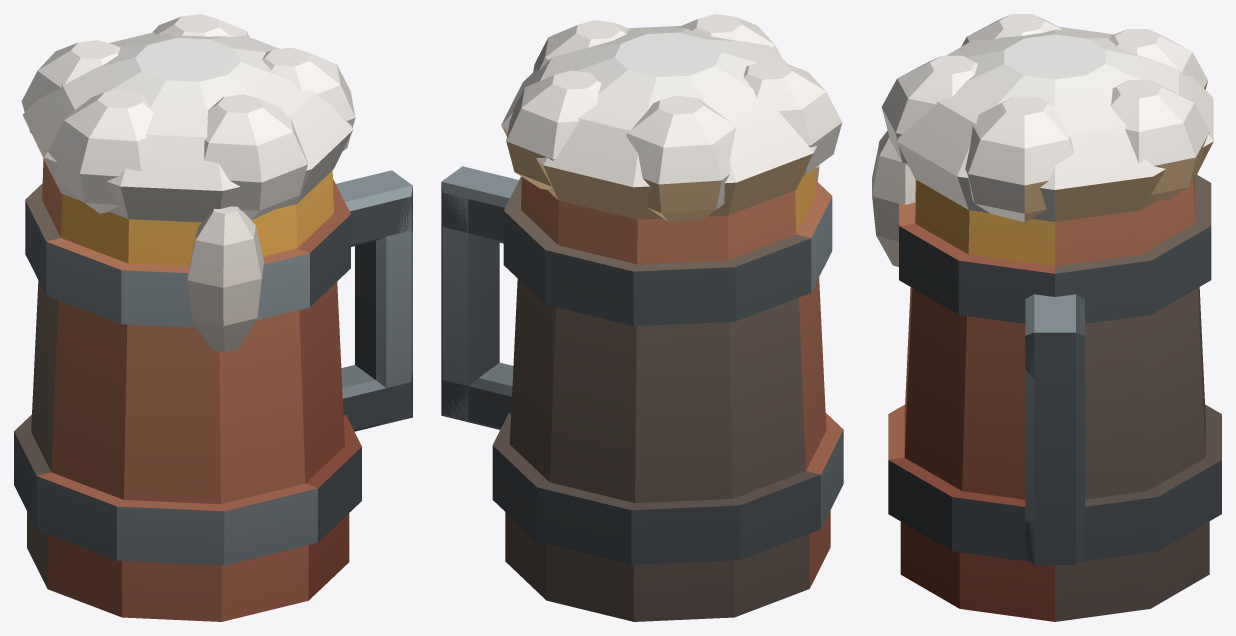
Rendered from source.glb.
3 views of the same model, side by side, from view 1: azimuth 30°, elevation 25°; view 2: azimuth 150°, elevation 25°; view 3: azimuth 270°, elevation 25° (orthographic).
Parts seen in each view (by area): view 1: model; view 2: model; view 3: model.
Boxes of the visible parts, x1=… form: model: x1=14, y1=14, x2=412, y2=621; model: x1=441, y1=14, x2=843, y2=621; model: x1=872, y1=14, x2=1221, y2=621.
Size of the model in its own units: 0.495 by 0.6403 by 0.4089.
Materials: 1 (1 with a texture image).
